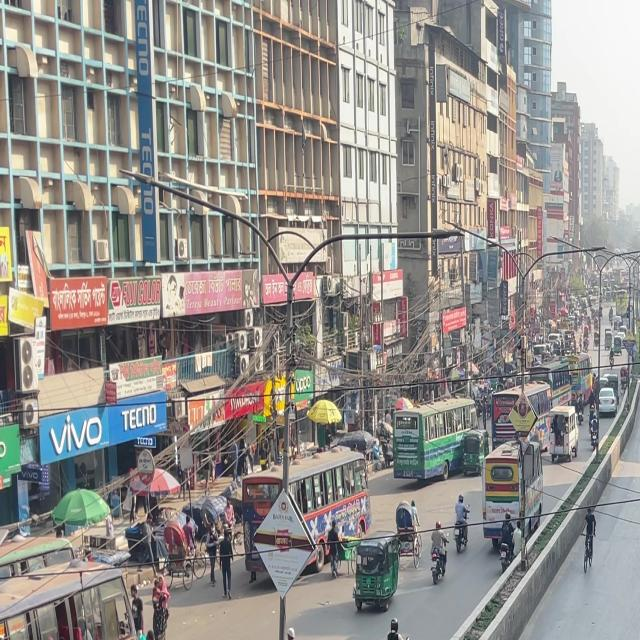bicycle: (564, 482, 604, 596), (433, 540, 449, 582)
bus: (228, 441, 380, 571), (1, 544, 139, 640), (394, 402, 485, 485), (481, 452, 525, 528)
rickshaw: (351, 528, 399, 614)
